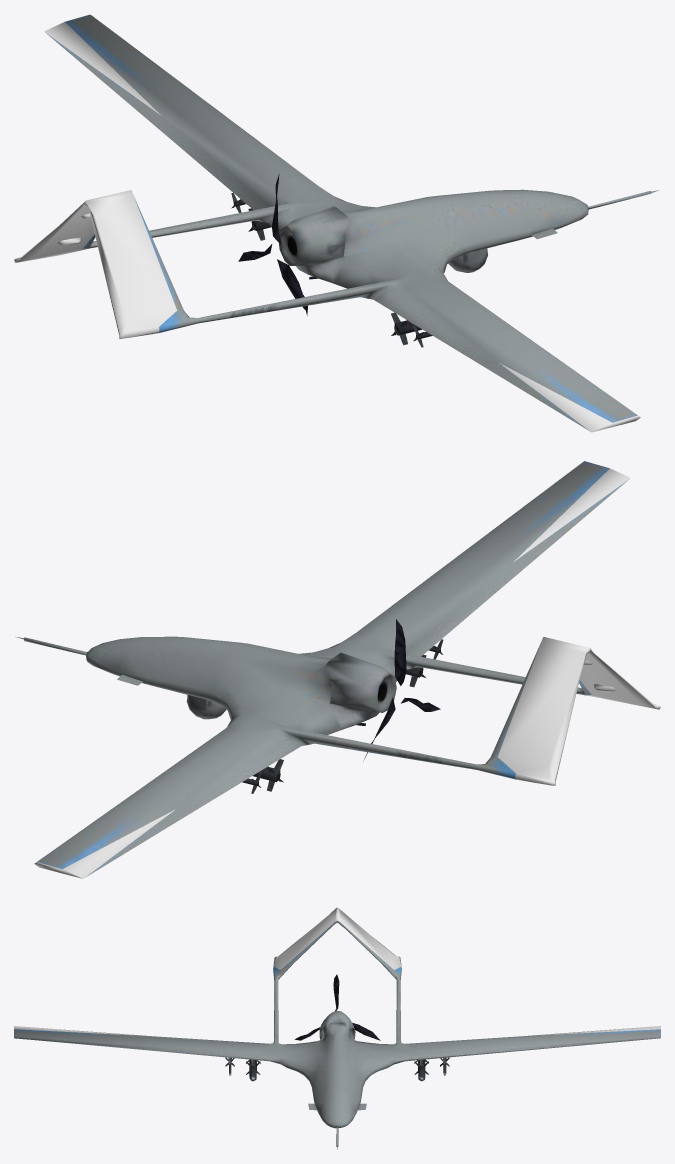
3 views of the same model, one above another, from view 1: azimuth 30°, elevation 25°; view 2: azimuth 150°, elevation 25°; view 3: azimuth 270°, elevation 25° (orthographic). The views are drawn at different scales.
Visible parts, largest first — view 1: g_tb2_hull, g_tb2_rotor; view 2: g_tb2_hull, g_tb2_rotor; view 3: g_tb2_hull, g_tb2_rotor.
Boxes of the visible parts, bbox=[...] form: g_tb2_hull: bbox=[14, 14, 658, 432]; g_tb2_rotor: bbox=[238, 174, 307, 315]; g_tb2_hull: bbox=[15, 461, 660, 878]; g_tb2_rotor: bbox=[363, 619, 440, 761]; g_tb2_hull: bbox=[14, 907, 660, 1149]; g_tb2_rotor: bbox=[294, 974, 380, 1040].
Size of the model in its own units: 7.51 by 1.97 by 12.
Materials: 3 (2 with a texture image).
